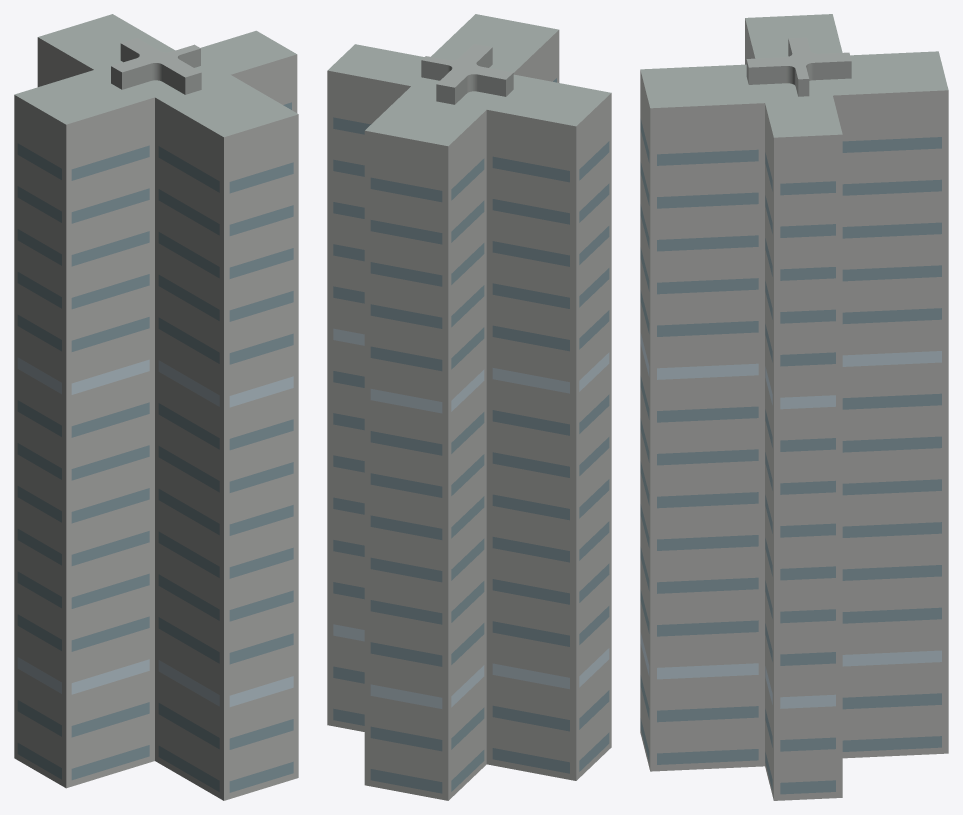
The model's file is fallback-acro-riverview-101.glb.
3 views of the same model, side by side, from view 1: azimuth 30°, elevation 25°; view 2: azimuth 150°, elevation 25°; view 3: azimuth 270°, elevation 25° (orthographic).
Visible parts, largest first — view 1: fallback-acro-riverview-101; view 2: fallback-acro-riverview-101; view 3: fallback-acro-riverview-101.
Part boxes in pixels (x1,y1,x2,y2): fallback-acro-riverview-101: [14, 14, 298, 800]; fallback-acro-riverview-101: [327, 14, 611, 800]; fallback-acro-riverview-101: [640, 14, 948, 800].
Size of the model in its own units: 36.64 by 94 by 38.58.
